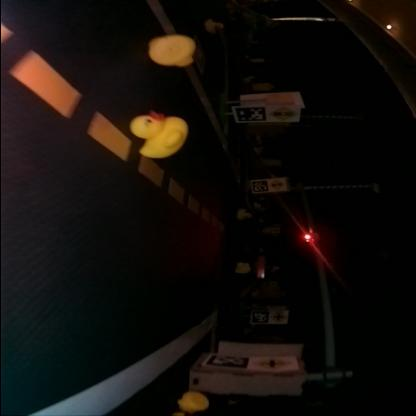Duckie: (130, 115, 184, 158), (149, 36, 194, 65), (179, 391, 207, 411), (205, 18, 219, 30), (236, 262, 250, 272), (240, 209, 251, 219)
Intersection sign: (254, 356, 292, 369), (270, 310, 288, 322)
QR code: (236, 106, 266, 121), (208, 355, 245, 367), (251, 311, 267, 323), (254, 180, 269, 192)
Signal sign: (270, 106, 298, 120), (272, 178, 285, 190)
